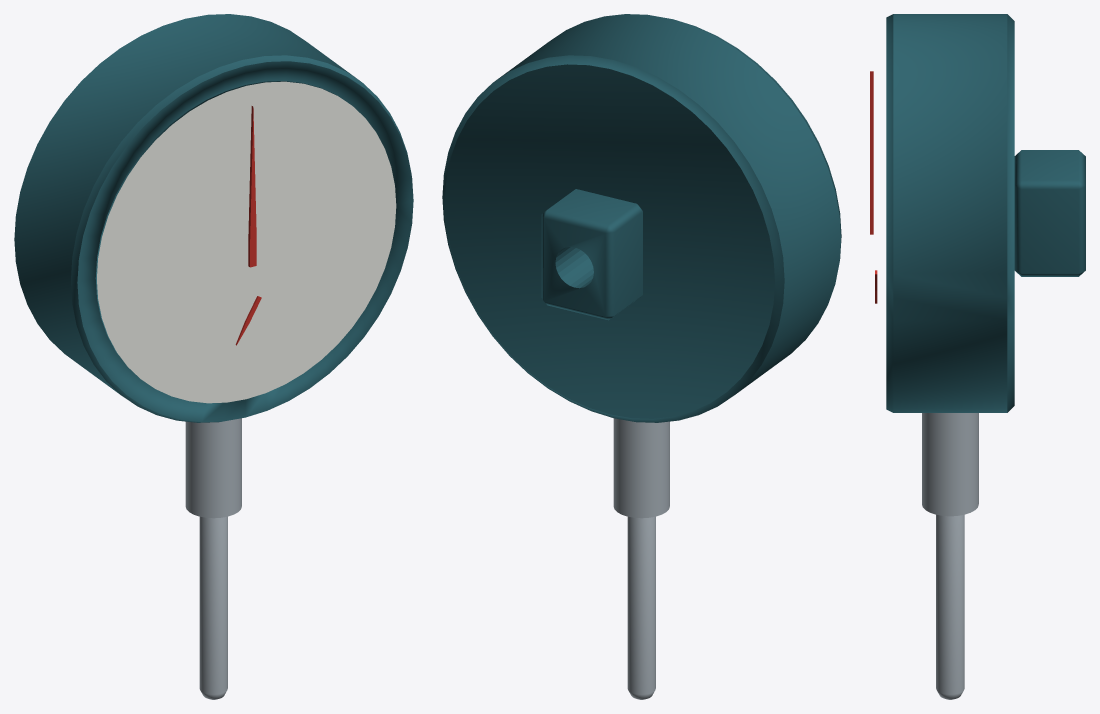
Rendered from VLAB_dial_gauge.fbx.
3 views of the same model, side by side, from view 1: azimuth 30°, elevation 25°; view 2: azimuth 150°, elevation 25°; view 3: azimuth 270°, elevation 25° (orthographic).
Parts seen in each view (by area): view 1: VLAB_dial_gauge_Scale_VIS, VLAB_dial_gauge_Body_VIS, VLAB_dial_gauge_Plunger_VIS, VLAB_dial_gauge_Needle_VIS; view 2: VLAB_dial_gauge_Body_VIS, VLAB_dial_gauge_StandMount_VIS, VLAB_dial_gauge_Plunger_VIS; view 3: VLAB_dial_gauge_Body_VIS, VLAB_dial_gauge_StandMount_VIS, VLAB_dial_gauge_Plunger_VIS, VLAB_dial_gauge_Needle_VIS.
Part boxes in pixels (bbox=[...]): VLAB_dial_gauge_Scale_VIS: bbox=[97, 81, 396, 403]; VLAB_dial_gauge_Body_VIS: bbox=[14, 14, 413, 518]; VLAB_dial_gauge_Plunger_VIS: bbox=[199, 516, 227, 699]; VLAB_dial_gauge_Needle_VIS: bbox=[248, 106, 256, 267]; VLAB_dial_gauge_Body_VIS: bbox=[442, 14, 841, 518]; VLAB_dial_gauge_StandMount_VIS: bbox=[541, 189, 642, 320]; VLAB_dial_gauge_Plunger_VIS: bbox=[627, 516, 655, 699]; VLAB_dial_gauge_Body_VIS: bbox=[886, 14, 1014, 516]; VLAB_dial_gauge_StandMount_VIS: bbox=[1014, 150, 1085, 276]; VLAB_dial_gauge_Plunger_VIS: bbox=[936, 514, 964, 699]; VLAB_dial_gauge_Needle_VIS: bbox=[870, 71, 873, 234].
Size of the model in its own units: 0.056 by 0.103 by 0.0303.
